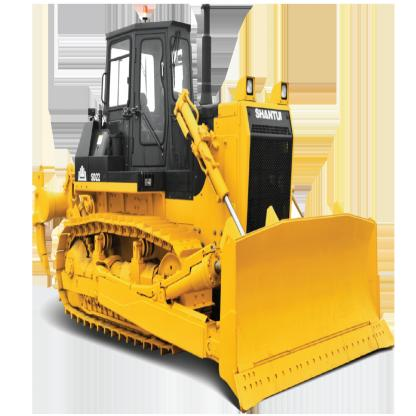bull_dozer/loader/grader: (31, 12, 398, 414)
